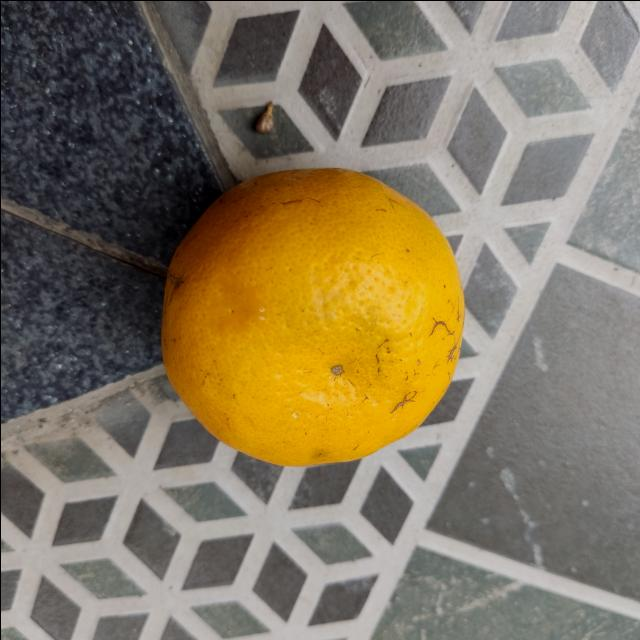orange: (156, 160, 468, 472)
